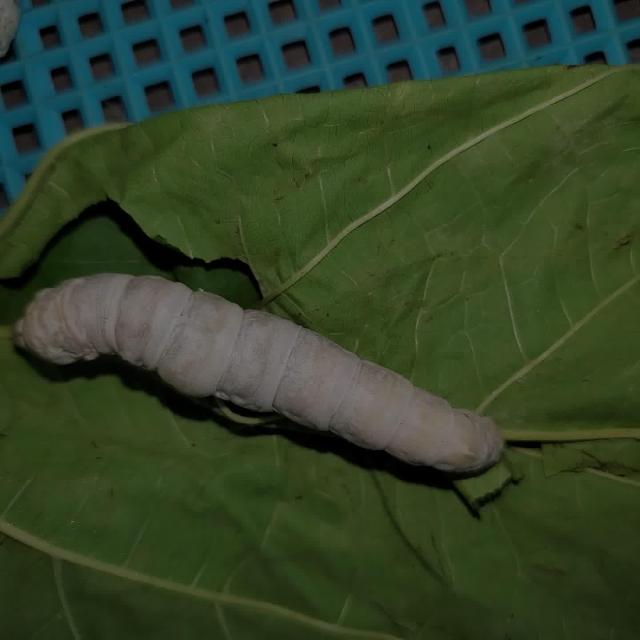Grasserie: (9, 240, 532, 495)
